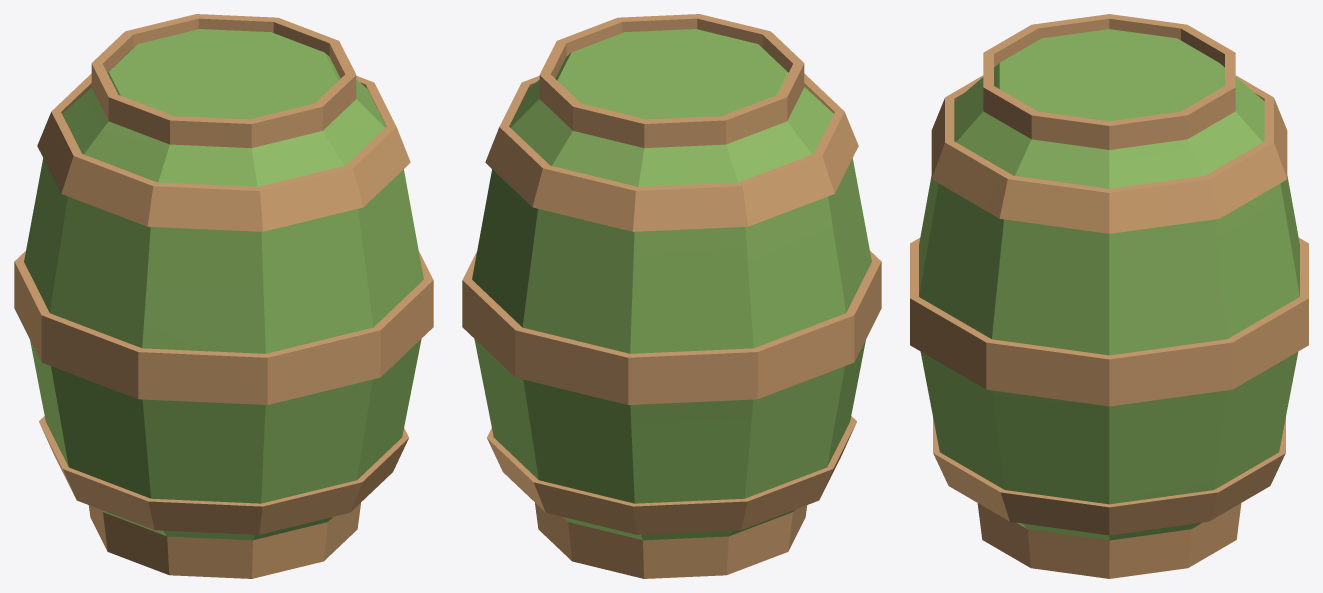
File: barrel_b.gltf
3 renders of one model, left to right at view 1: azimuth 30°, elevation 25°; view 2: azimuth 150°, elevation 25°; view 3: azimuth 270°, elevation 25°, orthographic.
Visible parts, largest first — view 1: barrel_b001; view 2: barrel_b001; view 3: barrel_b001.
Boxes of the visible parts, x1,y1,x2,y2 form: barrel_b001: (14, 14, 433, 578); barrel_b001: (462, 14, 881, 578); barrel_b001: (910, 14, 1308, 578).
Bounding box in the file's own units: 0.5917 × 0.7041 × 0.5627.
1 material, 1 textured.
